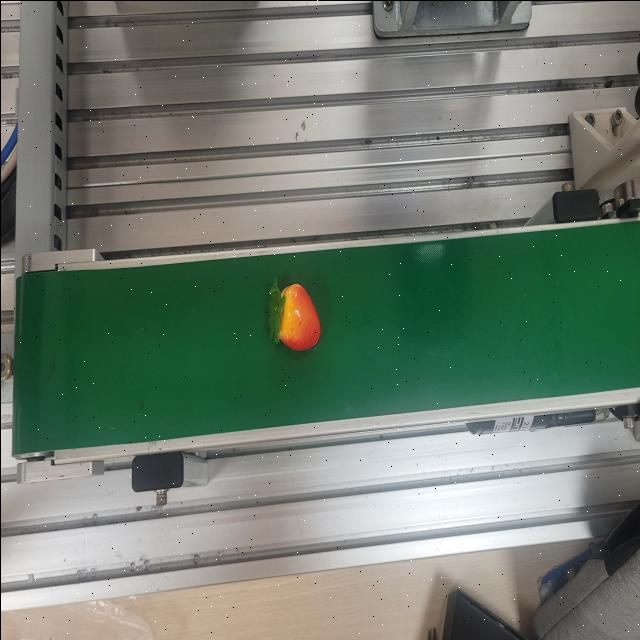Small Unripe Strawberry: (266, 277, 322, 355)
